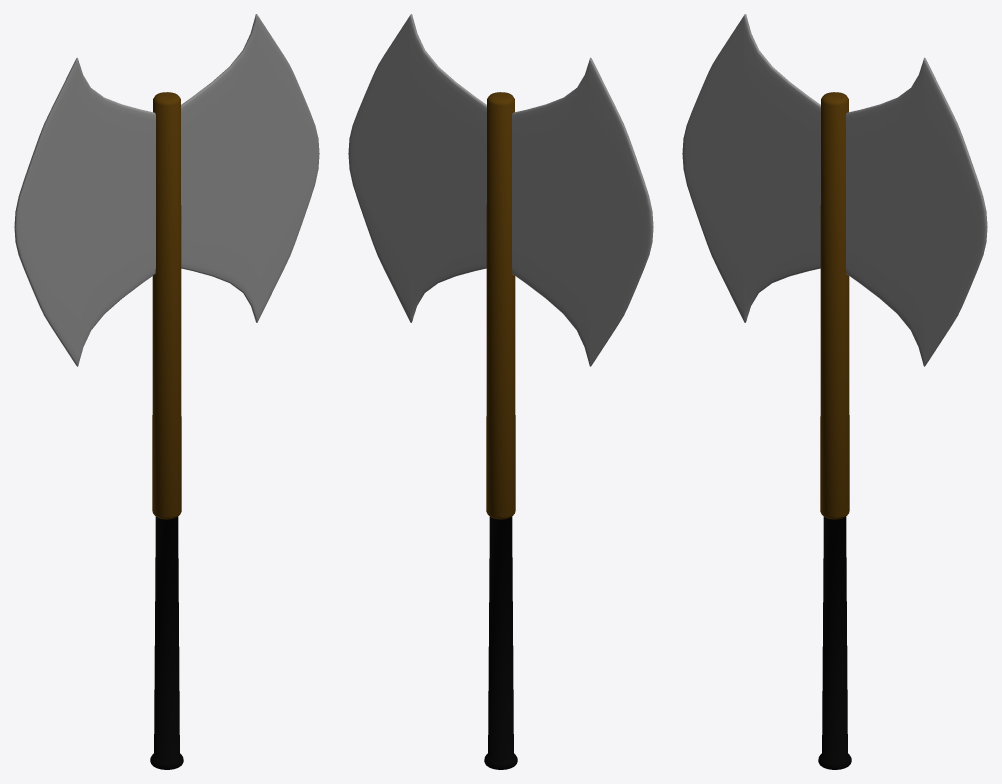
File: TwoHand_Axe_Iron.fbx
3 views of the same model, side by side, from view 1: azimuth 30°, elevation 25°; view 2: azimuth 150°, elevation 25°; view 3: azimuth 330°, elevation 25° (orthographic).
Parts seen in each view (by area): view 1: TwoHand_Axe_Iron; view 2: TwoHand_Axe_Iron; view 3: TwoHand_Axe_Iron.
Boxes of the visible parts, <box> form: TwoHand_Axe_Iron: <box>14,14,319,769</box>; TwoHand_Axe_Iron: <box>348,14,653,769</box>; TwoHand_Axe_Iron: <box>682,14,987,769</box>.
Size of the model in its own units: 546 by 1251 by 52.31.
